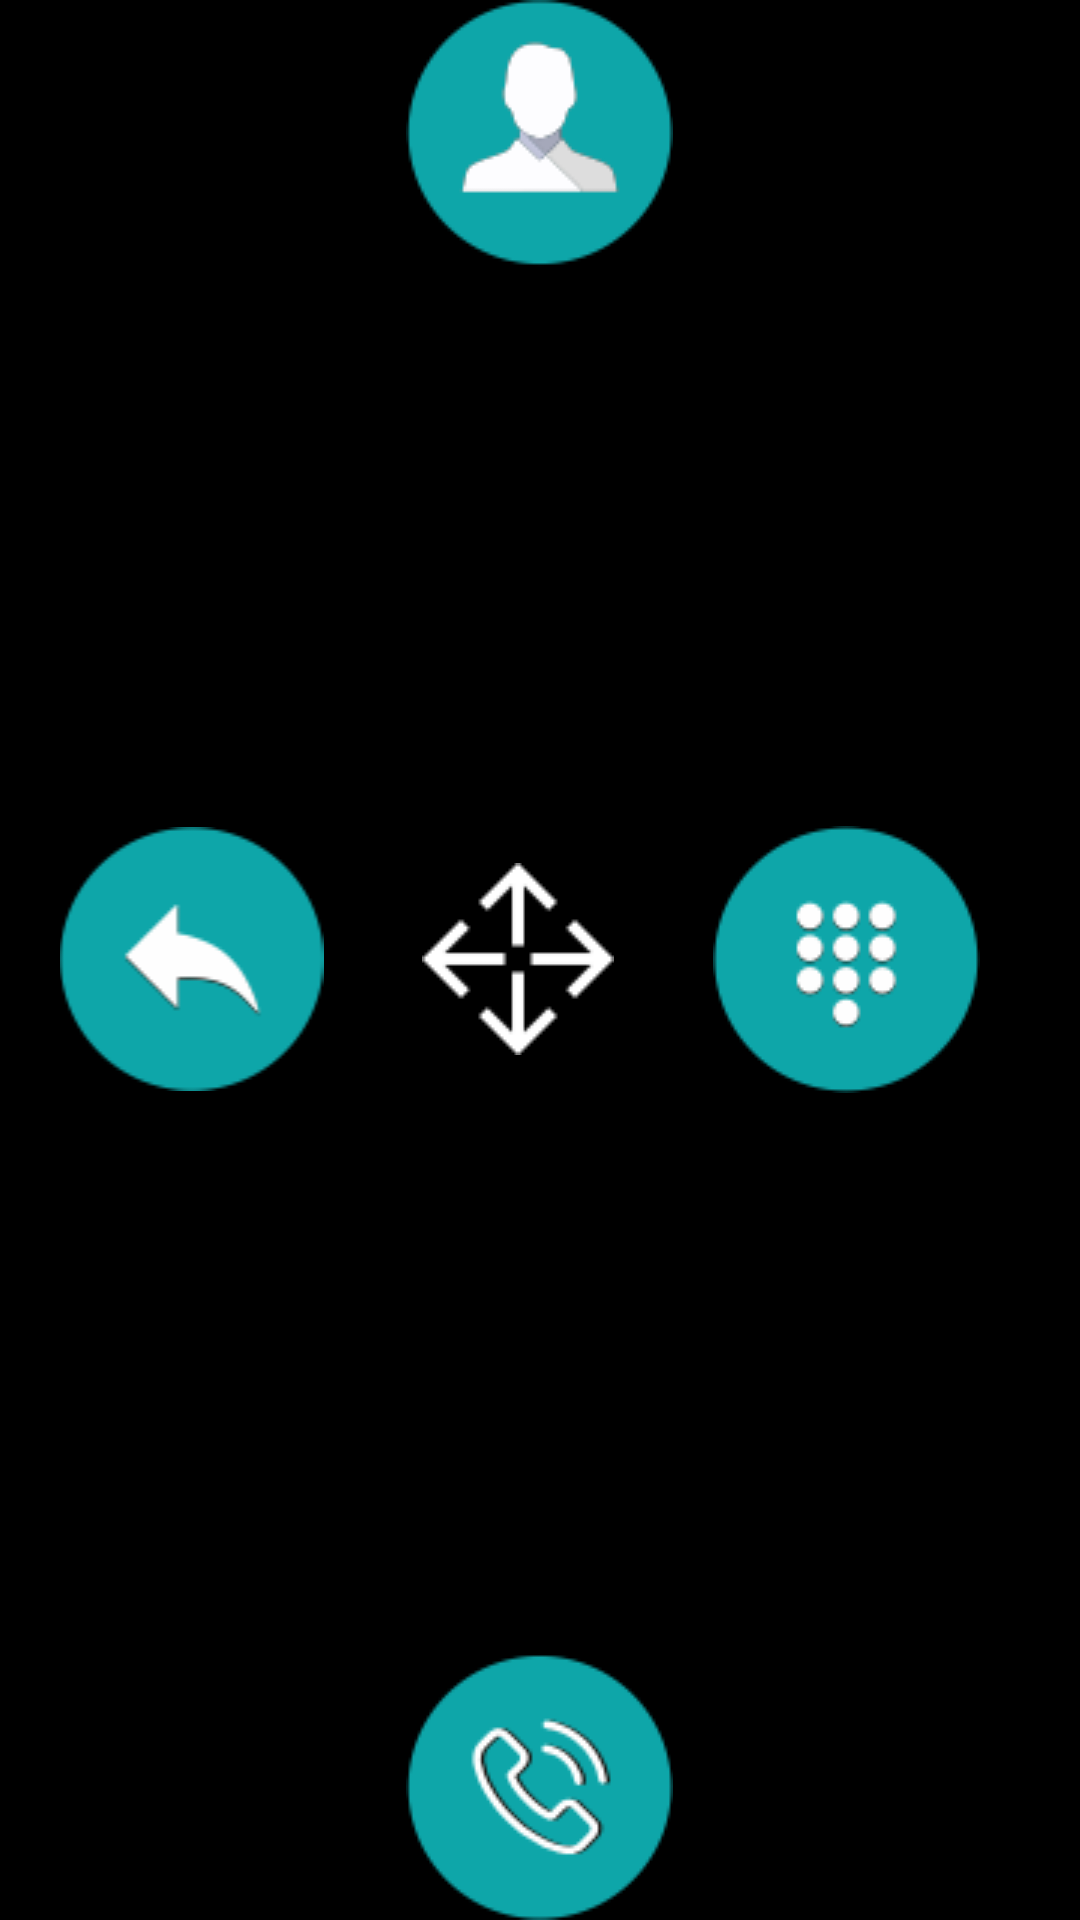

Icons on this 1080w x 1920h Android screen, each with its box as (x1, y1, x2, y2):
back: (60, 827, 324, 1091)
call: (406, 1655, 673, 1920)
contact: (406, 0, 673, 265)
dial: (713, 826, 980, 1093)
direction: (422, 863, 614, 1055)
